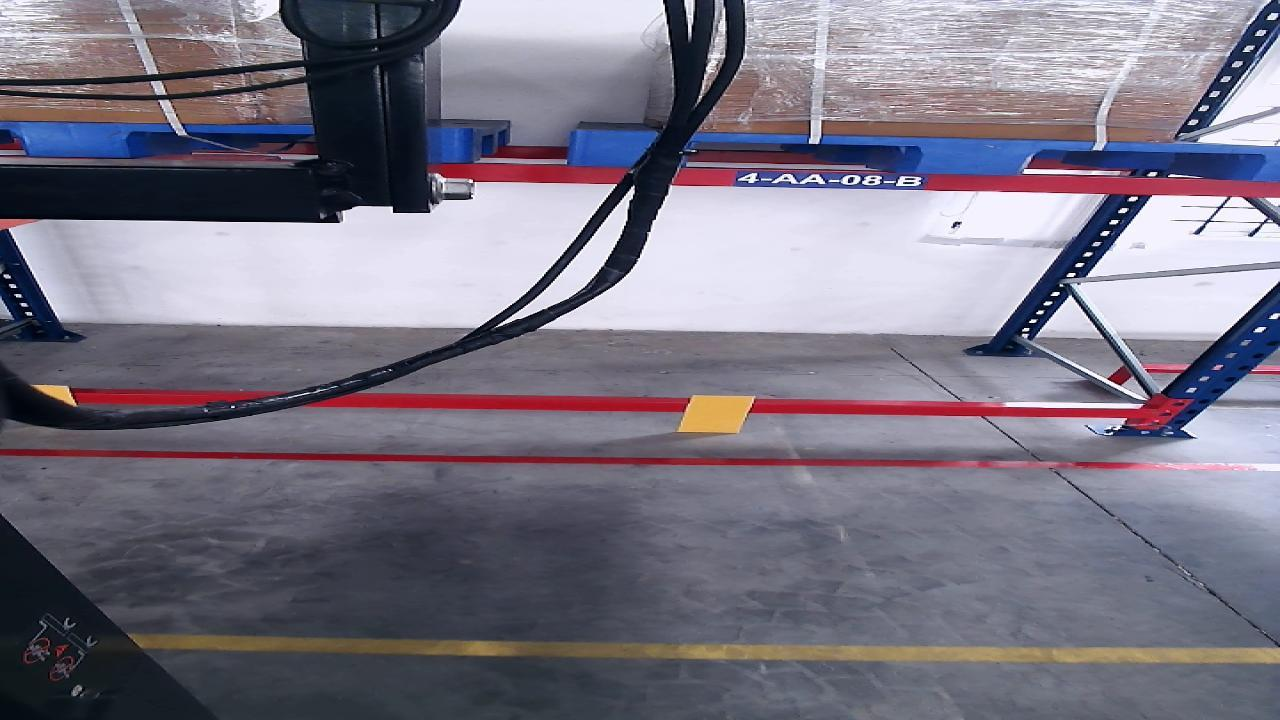h_rack: (438, 164, 1276, 196), (73, 393, 1145, 418)
orange_strip: (679, 395, 752, 432)
red_line: (3, 449, 1278, 471)
small_pallet: (569, 131, 1278, 179), (0, 124, 466, 162)
yellow_line: (130, 632, 1279, 663)
